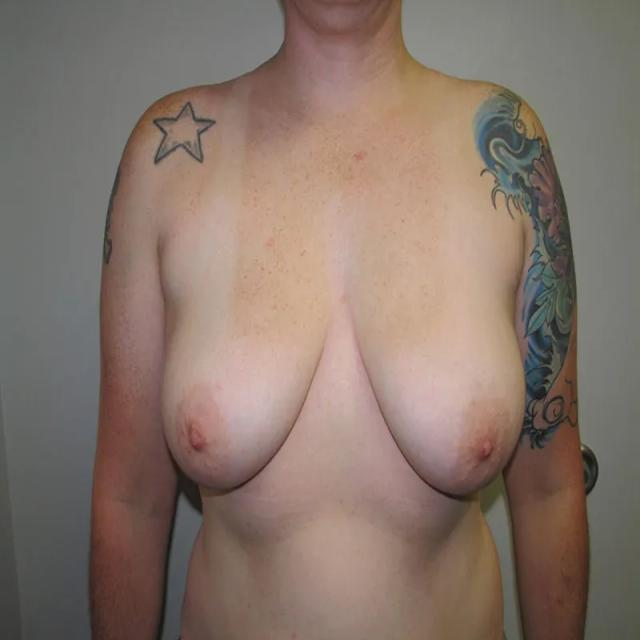Seno ileso: (344, 222, 532, 515), (156, 221, 338, 509)
